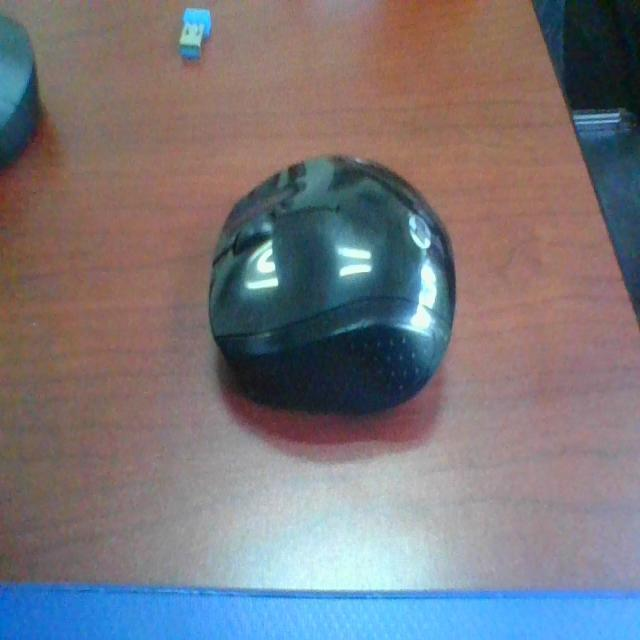Mouse: (205, 136, 480, 409)
